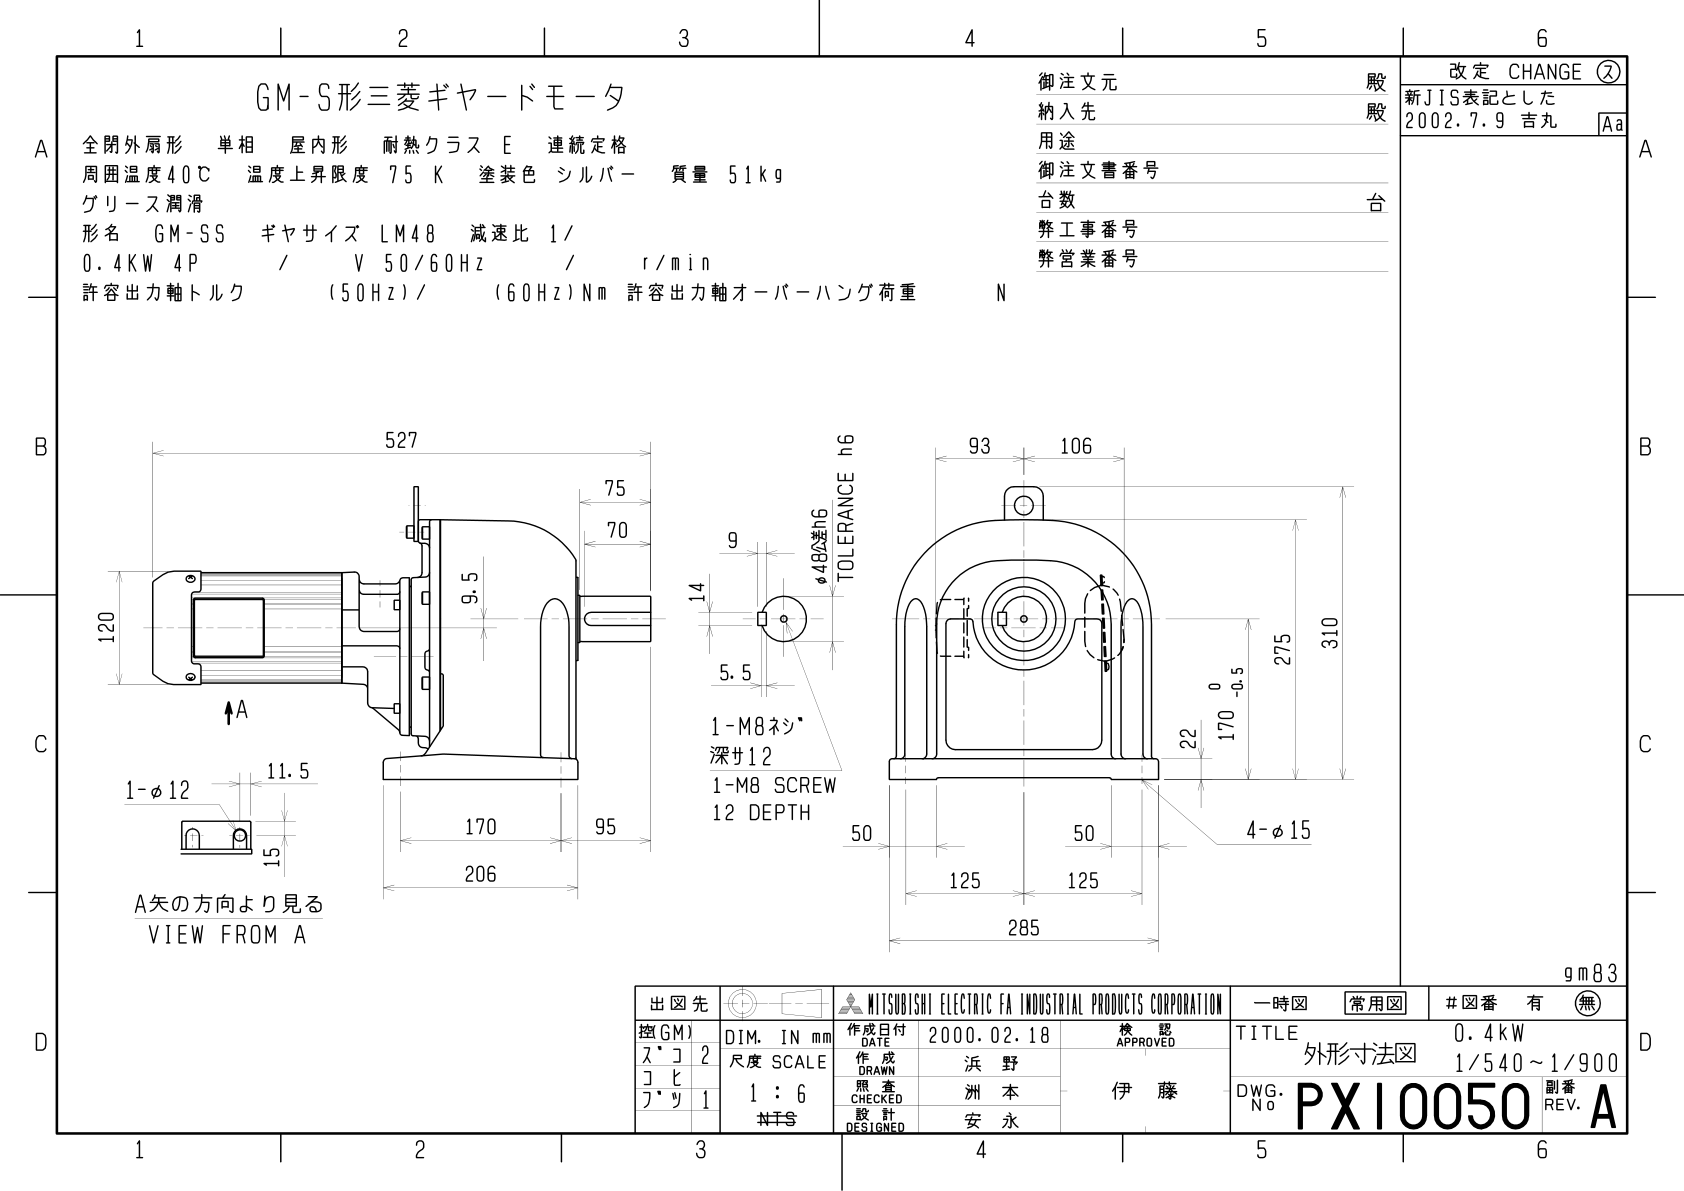GM_S_屋内＿三相_脚: (75, 385, 1393, 965)
